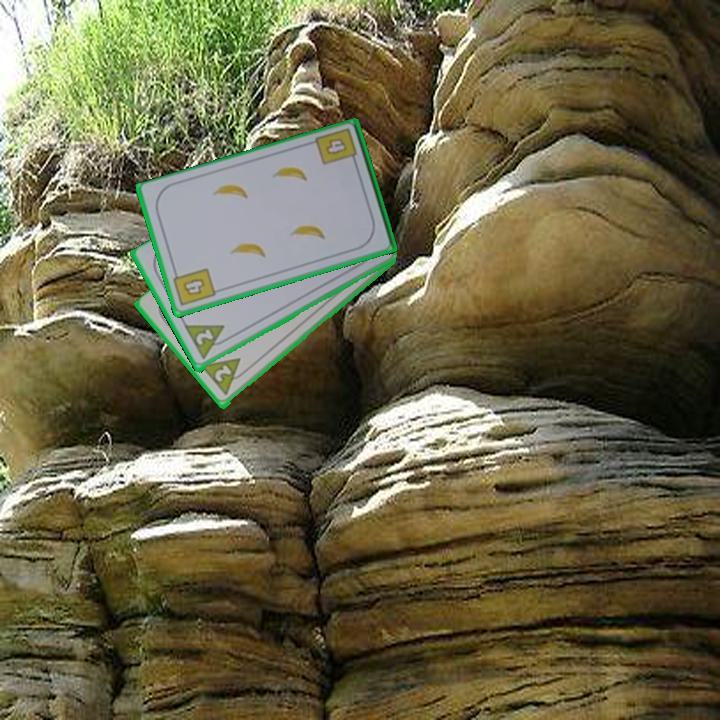2p: (198, 354, 252, 399), (192, 326, 216, 349)
4b: (170, 265, 219, 309), (312, 125, 360, 169)
